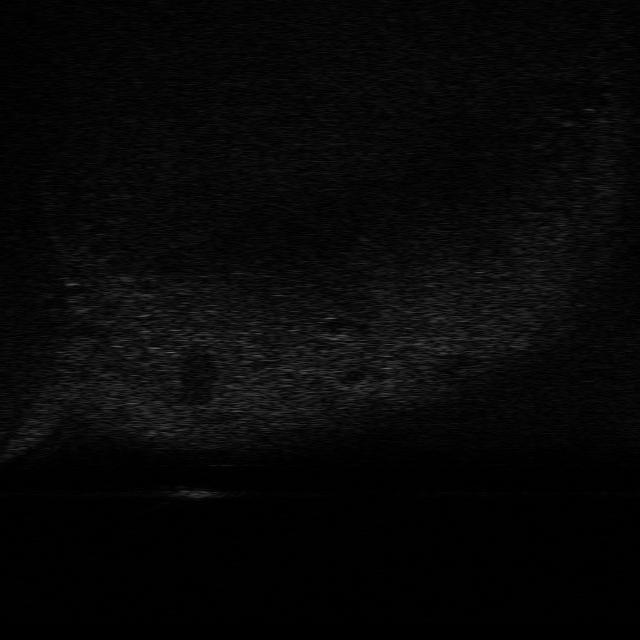cube: (160, 484, 221, 502)
